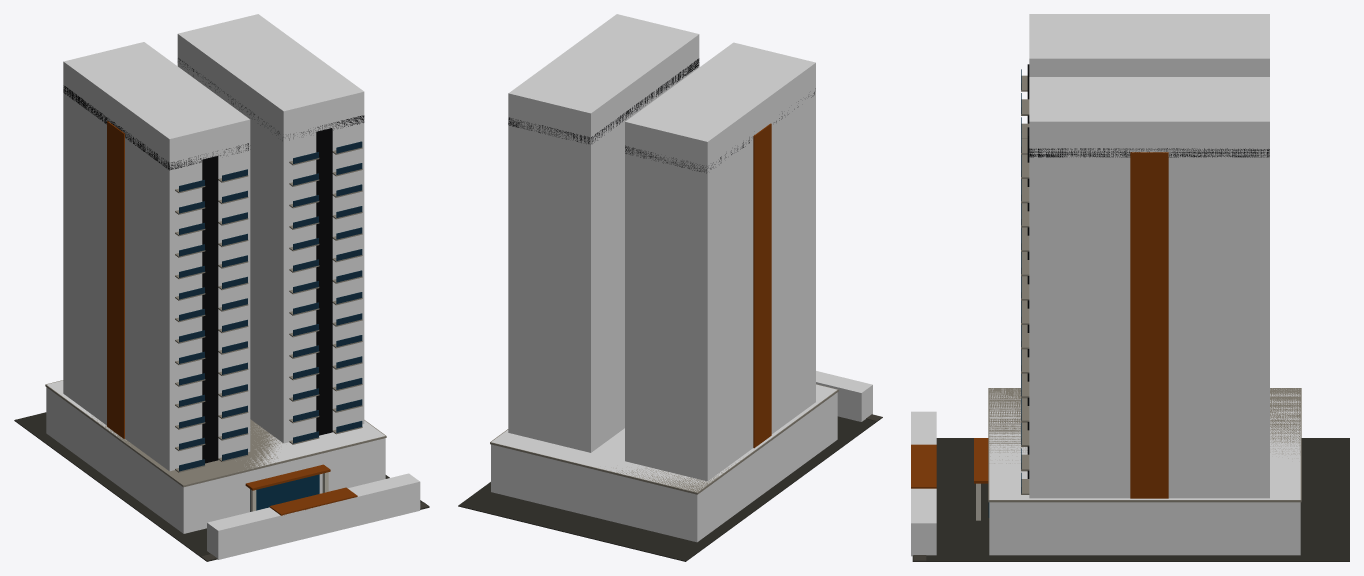
The model's file is B42_highrise_apt.glb.
The picture shows the model from 3 angles, left to right: view 1: azimuth 30°, elevation 25°; view 2: azimuth 150°, elevation 25°; view 3: azimuth 270°, elevation 25°; orthographic projection. The views are drawn at different scales.
Visible parts, largest first — view 1: COL_Main, COL_EastTower, LOD0, COL_Podium, COL_Compound; view 2: COL_Main, COL_EastTower, COL_Podium, LOD0, COL_Compound; view 3: COL_EastTower, LOD0, COL_Podium, COL_Main, COL_Compound.
Boxes of the visible parts, left/top/right/bottom form: COL_Main: left=63, top=42, right=250, bottom=471; COL_EastTower: left=177, top=14, right=364, bottom=443; LOD0: left=14, top=58, right=429, bottom=561; COL_Podium: left=46, top=380, right=385, bottom=533; COL_Compound: left=207, top=473, right=420, bottom=559; COL_Main: left=625, top=42, right=815, bottom=481; COL_EastTower: left=508, top=14, right=699, bottom=452; COL_Podium: left=491, top=384, right=837, bottom=542; LOD0: left=458, top=58, right=882, bottom=561; COL_Compound: left=816, top=371, right=872, bottom=421; COL_EastTower: left=1029, top=77, right=1269, bottom=498; LOD0: left=911, top=64, right=1349, bottom=561; COL_Podium: left=989, top=388, right=1300, bottom=555; COL_Main: left=1029, top=14, right=1269, bottom=76; COL_Compound: left=911, top=411, right=936, bottom=556.
Size of what is drawn, in the model's own units: 32 by 52.4 by 48.2.
